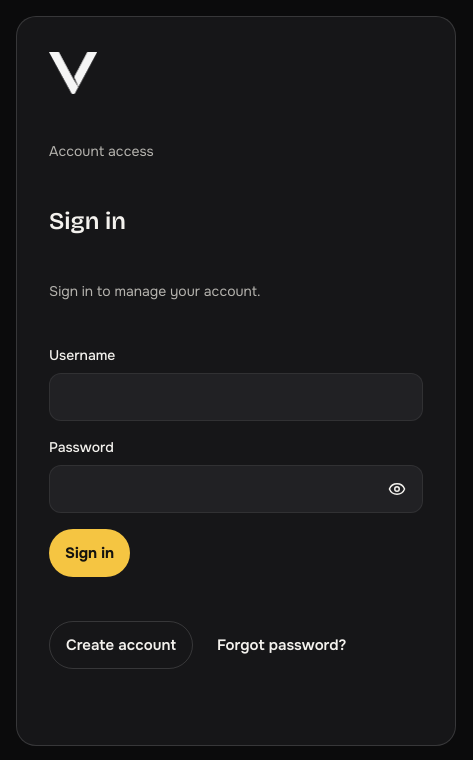
Test: public account-only dashboard › offers sign in and public registration with no legacy token path
The image size is (473, 760).
Expected: the heading "Sign in" is shown, [49, 207, 126, 235]
What coordinates should you click on to do the following:
click the button "Create account"
I would click on:
 (121, 645)
Its box is [49, 621, 193, 669].
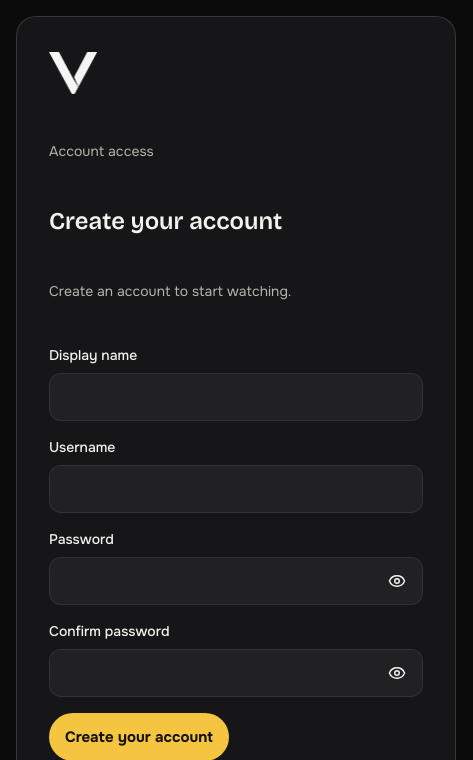
Expected: the heading "Create your account" is shown, [49, 207, 282, 235]
